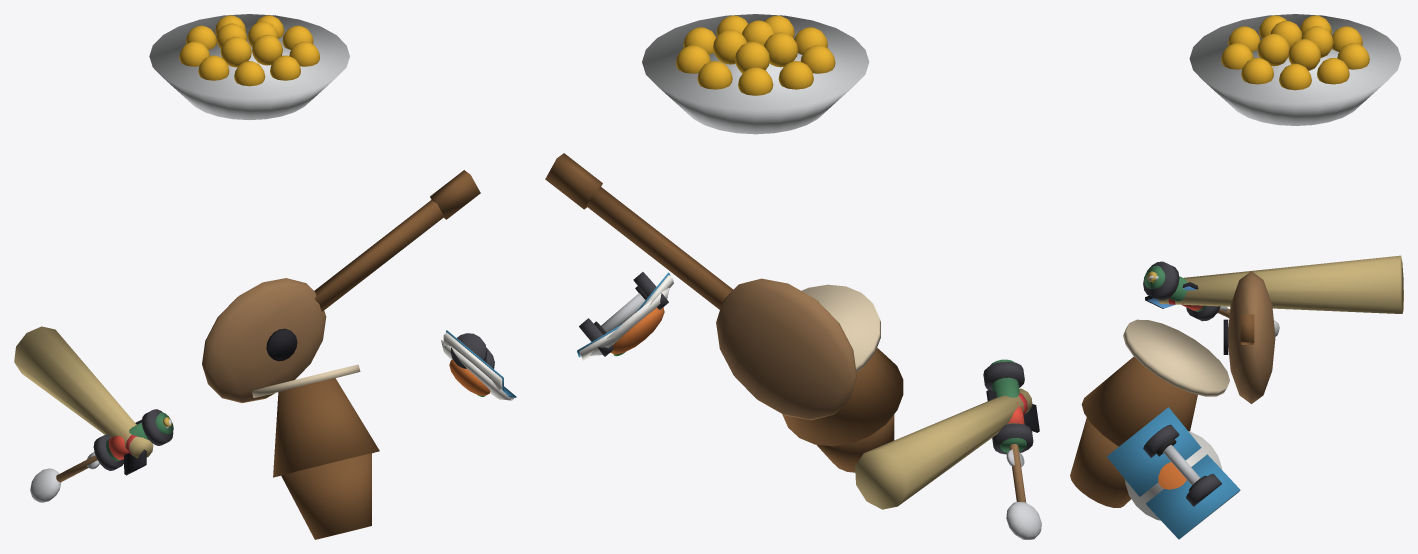
The model's file is awd_props_male.glb.
3 views of the same model, side by side, from view 1: azimuth 30°, elevation 25°; view 2: azimuth 150°, elevation 25°; view 3: azimuth 270°, elevation 25° (orthographic). The views are drawn at different scales.
Parts seen in each view (by area): view 1: prop_headpan, prop_guitar, prop_drum, prop_broom, prop_plate, prop_dumbbell_R, prop_ladle, prop_book, prop_bottle, prop_dumbbell_L; view 2: prop_headpan, prop_guitar, prop_drum, prop_broom, prop_plate, prop_ladle, prop_dumbbell_L, prop_dumbbell_R, prop_bottle, prop_book; view 3: prop_headpan, prop_drum, prop_broom, prop_book, prop_guitar, prop_dumbbell_L, prop_plate, prop_dumbbell_R, prop_bottle.
Boxes of the visible parts, box(x1,y1,x2,y2) form: prop_headpan: box(149, 14, 349, 120); prop_guitar: box(202, 170, 480, 402); prop_drum: box(251, 364, 379, 539); prop_broom: box(14, 326, 153, 458); prop_plate: box(441, 340, 510, 400); prop_dumbbell_R: box(93, 409, 173, 470); prop_ladle: box(30, 455, 97, 502); prop_book: box(443, 330, 516, 400); prop_bottle: box(106, 412, 173, 460); prop_dumbbell_L: box(450, 333, 494, 368); prop_headpan: box(642, 14, 869, 134); prop_guitar: box(545, 153, 856, 420); prop_drum: box(782, 284, 903, 472); prop_broom: box(855, 388, 1032, 509); prop_plate: box(590, 287, 669, 356); prop_ladle: box(1006, 444, 1041, 539); prop_dumbbell_L: box(579, 272, 668, 356); prop_dumbbell_R: box(983, 361, 1033, 454); prop_bottle: box(990, 359, 1026, 452); prop_book: box(577, 272, 673, 360); prop_headpan: box(1189, 14, 1401, 125); prop_drum: box(1070, 319, 1229, 507); prop_broom: box(1159, 255, 1403, 313); prop_book: box(1106, 407, 1240, 539); prop_guitar: box(1223, 271, 1275, 403); prop_dumbbell_L: box(1143, 424, 1221, 506); prop_plate: box(1125, 431, 1221, 520); prop_dumbbell_R: box(1143, 261, 1220, 321); prop_bottle: box(1144, 265, 1206, 311).
Size of the model in its own units: 1.38 by 1.33 by 0.8512.
